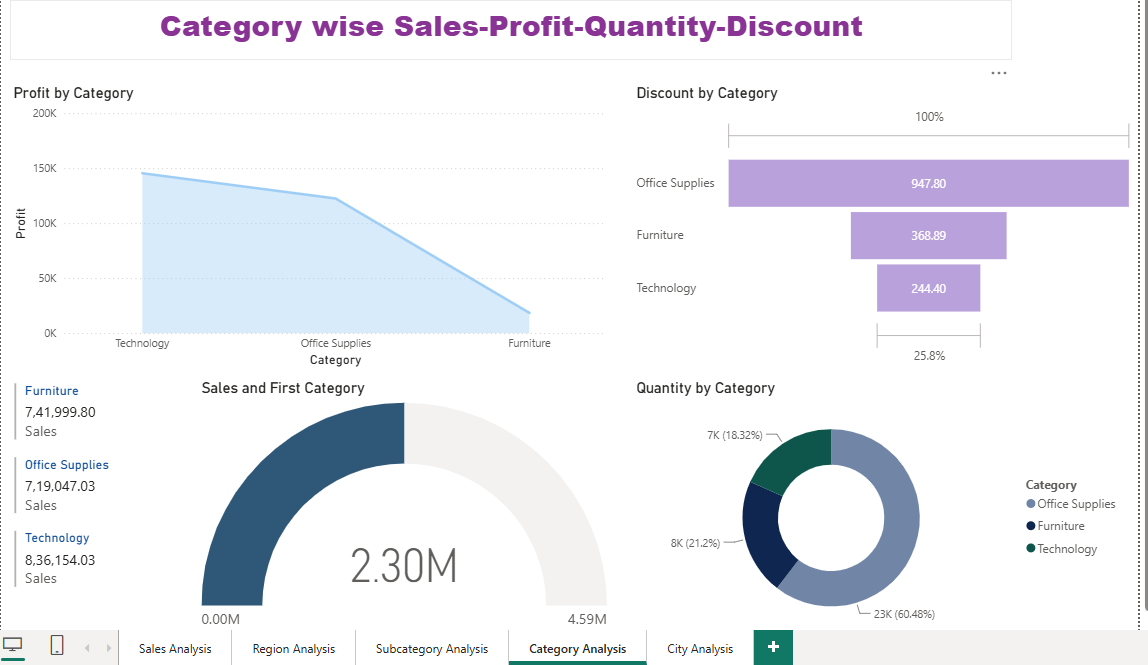

The dashboard page shown, as its layout file describes it:
{"tool":"powerbi","page":{"name":"Category Analysis","canvas":[1280,720],"ordinal":3},"visuals":[{"type":"textbox","box":[9.6,0,1129.1,67.2],"z":0},{"type":"areaChart","fields":{"Category":["Orders.Category"],"Y":["Sum(Orders.Profit)"]},"box":[8.8,94.1,677.9,323.5],"z":1000},{"type":"multiRowCard","fields":{"Values":["Orders.Category","Sum(Orders.Sales)"]},"box":[9.6,426.7,211.3,293.6],"z":2000},{"type":"funnel","fields":{"Category":["Orders.Category"],"Y":["Sum(Orders.Discount)"]},"box":[710.7,94.7,569.3,322.4],"z":3000},{"type":"donutChart","fields":{"Category":["Orders.Category"],"Y":["Sum(Orders.Quantity)"]},"box":[710.7,426.7,558.4,293.6],"z":4000},{"type":"gauge","fields":{"Y":["Sum(Orders.Sales)"]},"box":[221.2,426.7,466.5,293.5],"z":5000}]}

Visuals, with their boxes on the page's 1280x720 design canvas (x1, y1, x2, y2). These are canvas units, not pixel positions in the 1148x665 screenshot, which may show the page scaled, cropped or inside an application window:
textbox: select_region(10, 0, 1139, 67)
areaChart - Orders.Category x Sum(Orders.Profit): select_region(9, 94, 687, 418)
multiRowCard - Orders.Category x Sum(Orders.Sales): select_region(10, 427, 221, 720)
funnel - Orders.Category x Sum(Orders.Discount): select_region(711, 95, 1280, 417)
donutChart - Orders.Category x Sum(Orders.Quantity): select_region(711, 427, 1269, 720)
gauge - Sum(Orders.Sales): select_region(221, 427, 688, 720)
